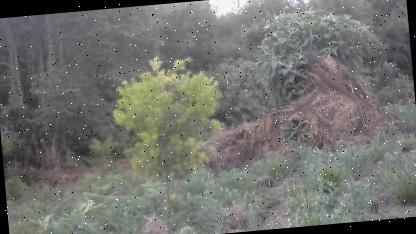tree: (97, 47, 232, 222)
